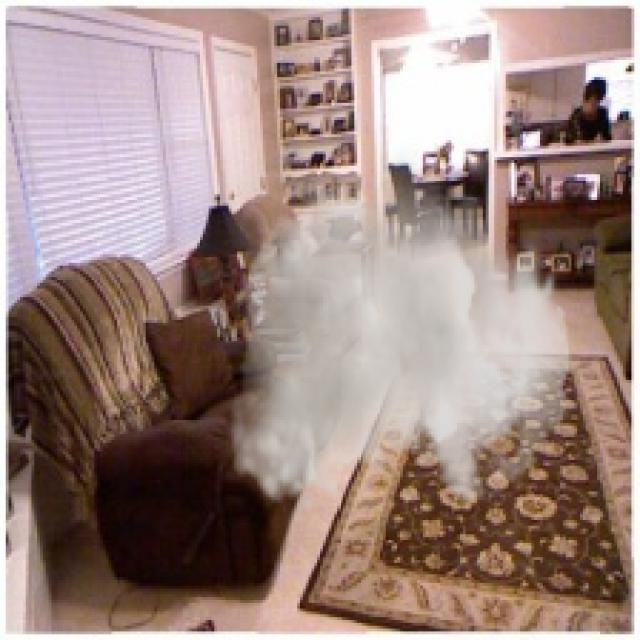Smoke: (228, 140, 572, 514)
